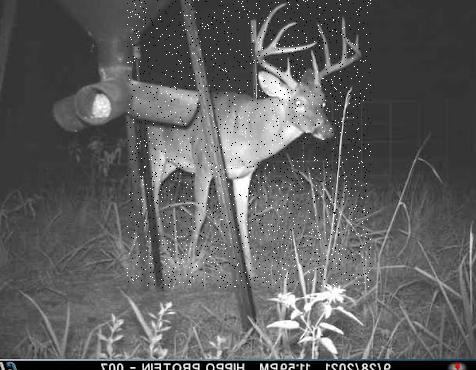Deer: (127, 0, 371, 288)
